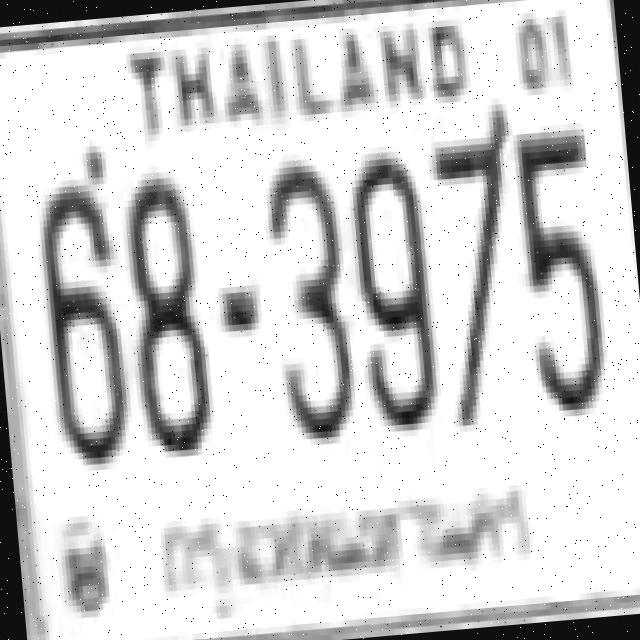3: (259, 150, 355, 440)
5: (512, 122, 608, 412)
6: (32, 177, 127, 461)
7: (427, 110, 528, 420)
8: (118, 170, 212, 453)
9: (344, 143, 436, 427)
Bangkok: (151, 450, 555, 638)
